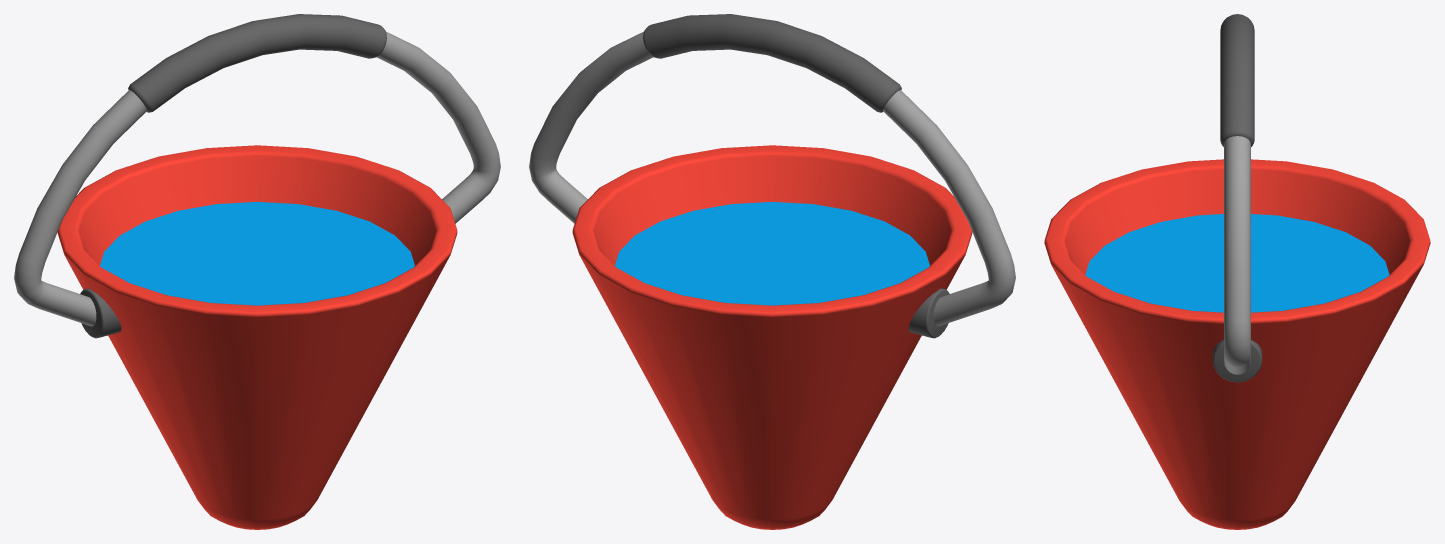
The model's file is Public_11_Firefighter_Bucket_1.glb.
3 views of the same model, side by side, from view 1: azimuth 30°, elevation 25°; view 2: azimuth 150°, elevation 25°; view 3: azimuth 270°, elevation 25° (orthographic). The views are drawn at different scales.
Visible parts, largest first — view 1: Public_11_Firefighter_Bucket_1; view 2: Public_11_Firefighter_Bucket_1; view 3: Public_11_Firefighter_Bucket_1.
Boxes of the visible parts, x1,y1,x2,y2 form: Public_11_Firefighter_Bucket_1: [14, 14, 500, 529]; Public_11_Firefighter_Bucket_1: [529, 14, 1015, 529]; Public_11_Firefighter_Bucket_1: [1044, 14, 1430, 529].
Size of the model in its own units: 0.7303 by 0.7125 by 0.5236.
Materials: 1 (1 with a texture image).
